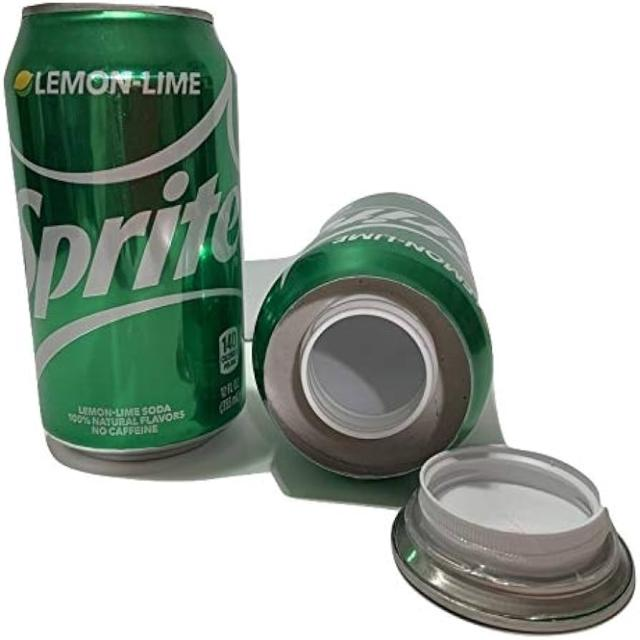sprite: (4, 8, 247, 462)
